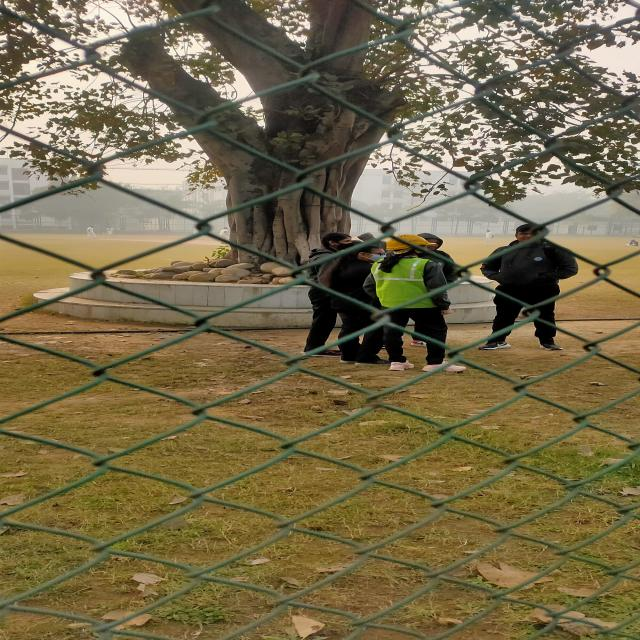safe: (373, 233, 430, 373)
unsafe: (484, 222, 576, 350), (307, 230, 348, 356)
